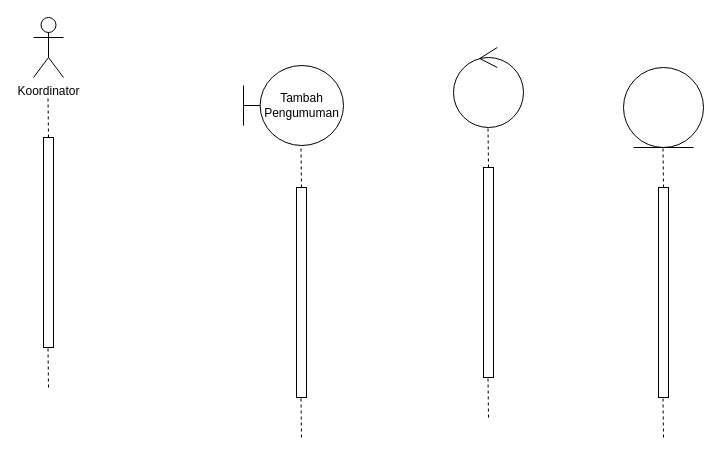
Image size: 721x456. Some labels were removed from this diagram. Here are the shapes that lost their labels. From the top down, the centre of each, then its label:
the point at 488,87: Control Object
the point at 663,107: Entity Object
